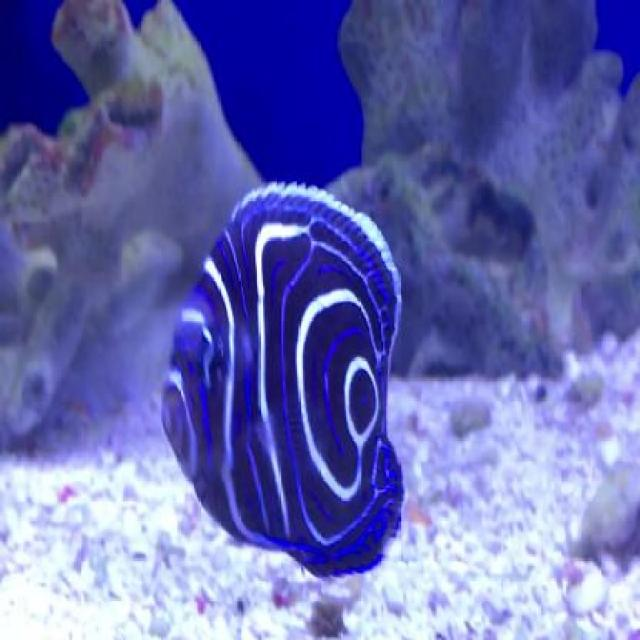AngelFish: (166, 186, 416, 578)
